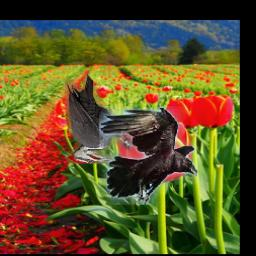Crow: (100, 106, 198, 205)
Woodpecker: (66, 72, 134, 165)
